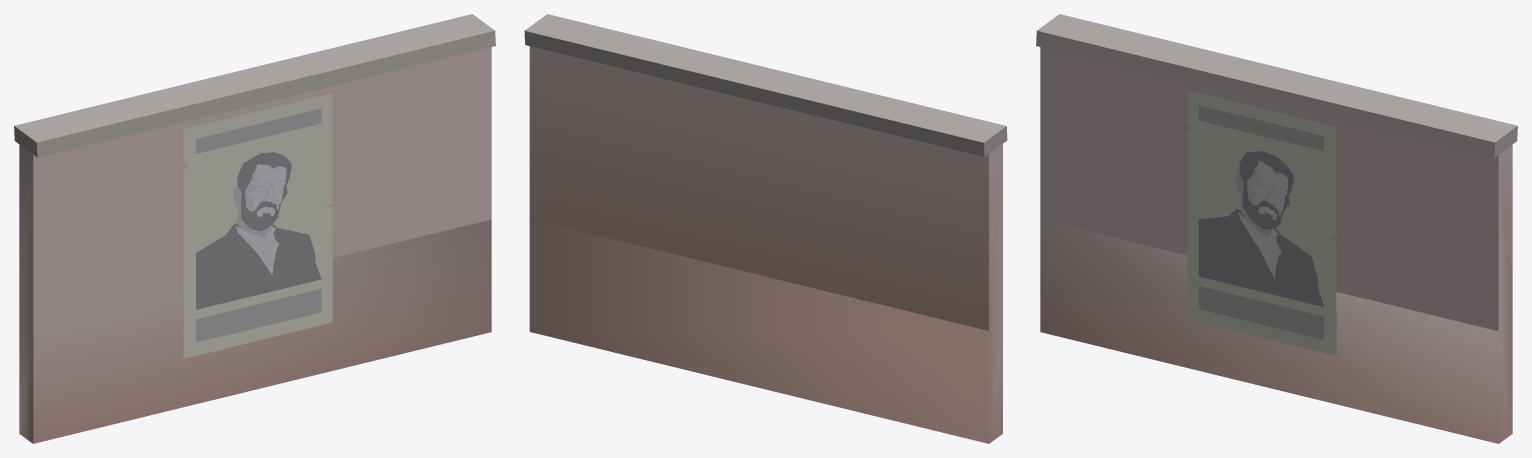
Rendered from wall_grafitti.glb.
3 renders of one model, left to right at view 1: azimuth 30°, elevation 25°; view 2: azimuth 150°, elevation 25°; view 3: azimuth 330°, elevation 25°, orthographic.
Visible parts, largest first — view 1: wall_grafitti; view 2: wall_grafitti; view 3: wall_grafitti.
Part boxes in pixels (x1,y1,x2,y2): wall_grafitti: [14, 14, 495, 443]; wall_grafitti: [524, 14, 1007, 443]; wall_grafitti: [1036, 14, 1517, 443].
Bounding box in the file's own units: 0.9085 × 0.5761 × 0.081.
